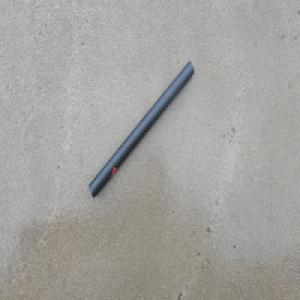LuggagePart: (87, 59, 195, 199)
